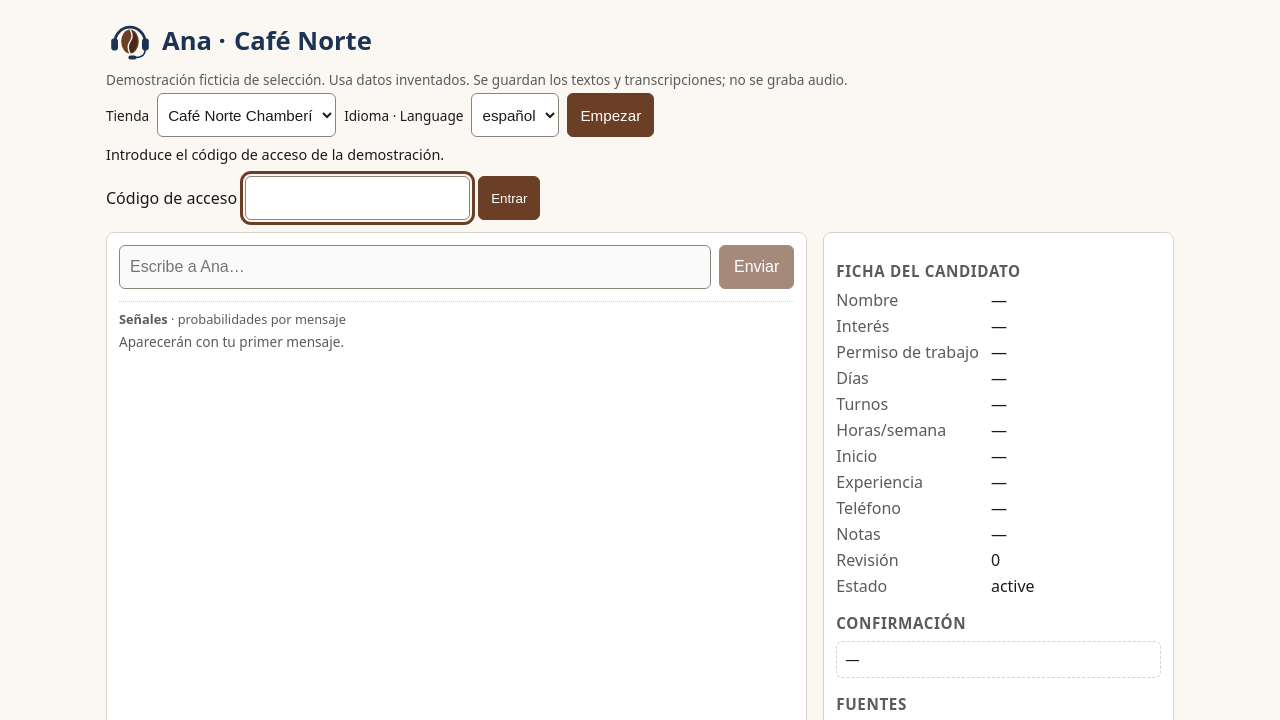
Test case: App › asks for the access code, then opens the session
Type "0000" into the field labelled "Código de acceso" at coordinates (358, 198), box [245,176,470,220]
Then press Enter
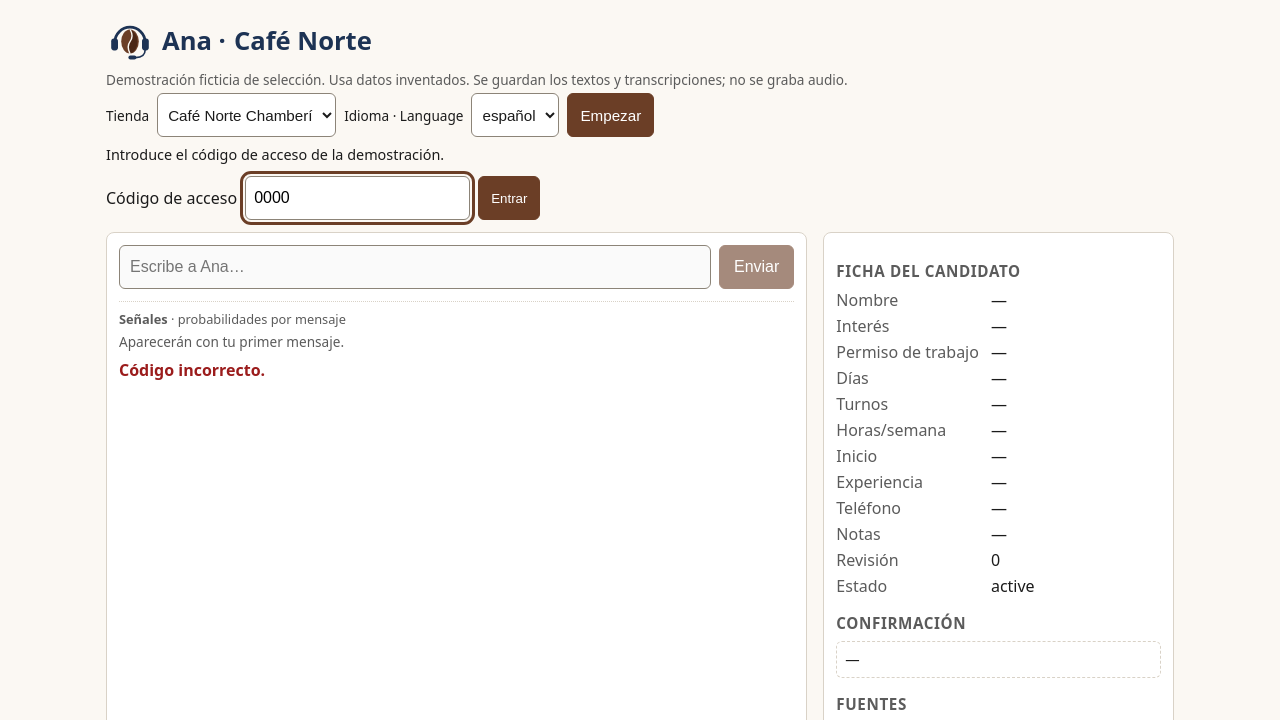
Expected: the message reads "Código incorrecto.", [119,359,265,381]
Replace the text in the field labelled "Código de acceso" with "1234" at coordinates (358, 198), box [245,176,470,220]
Then press Enter
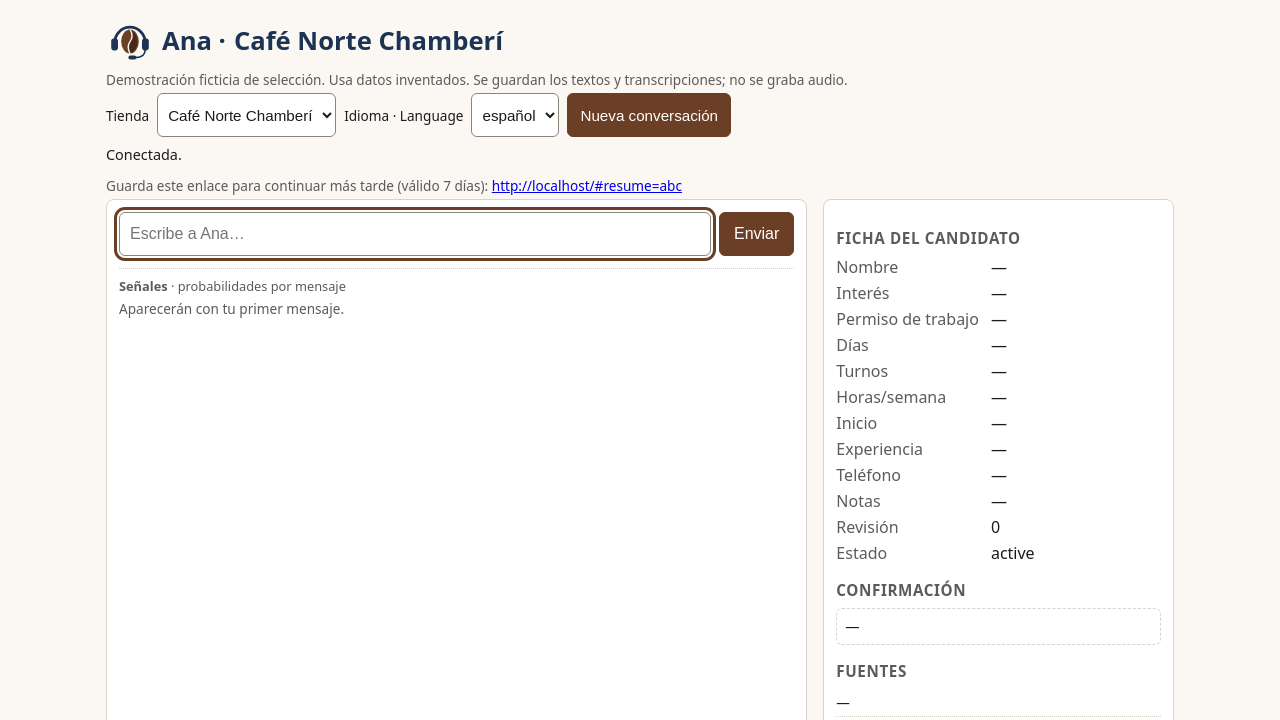
Expected: the text "Conectada." is shown, [106,145,182,164]
Expected: the text labelled "código de acceso" is gone
